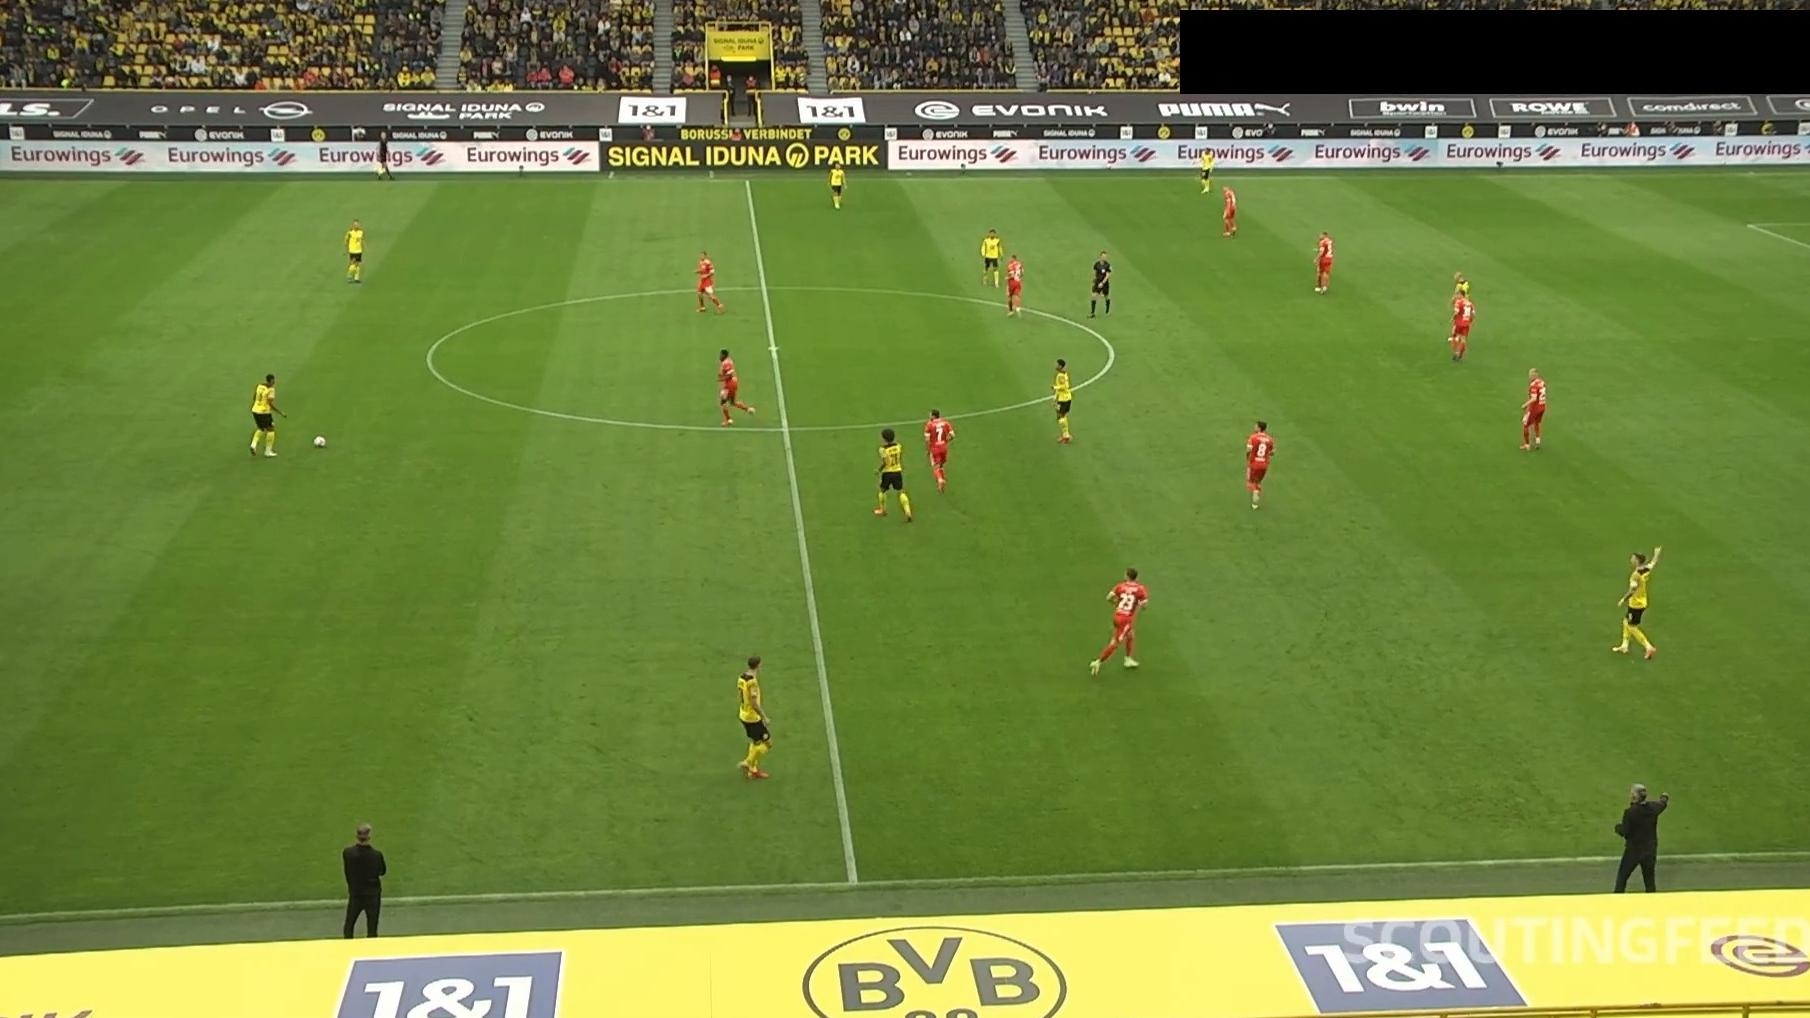ball: (311, 435, 327, 450)
